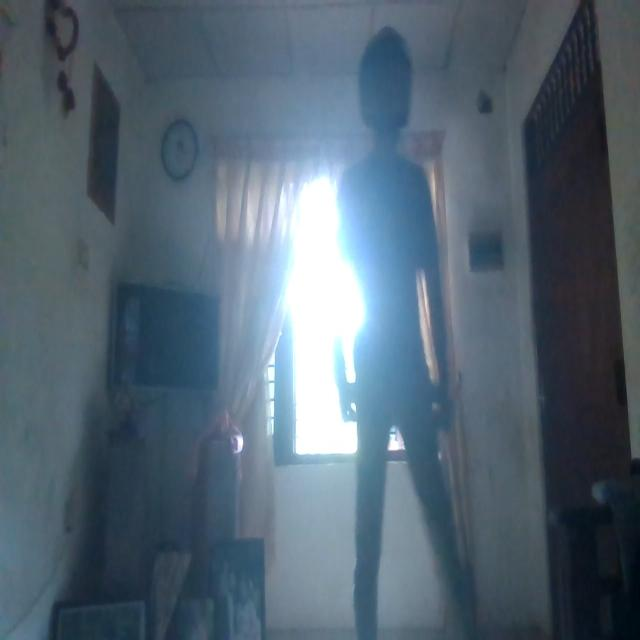Helmet_Wearer: (356, 29, 414, 139)
Person: (334, 31, 474, 633)
